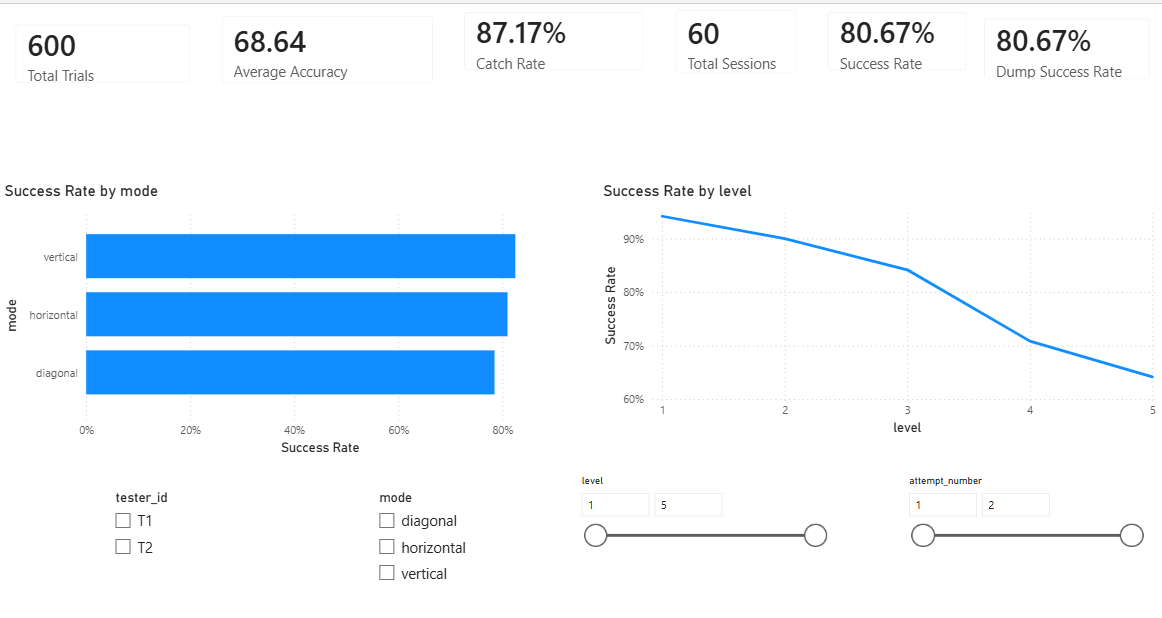

Layout of this report page (visuals, bound fields, positions):
{"tool":"powerbi","page":{"name":"Overall Performance","canvas":[1280,720],"ordinal":0},"visuals":[{"type":"cardVisual","fields":{"Data":["fixed_game_trial_results_cleaned.Total Trials"]},"box":[0,50.8,226.4,98.8],"z":0},{"type":"cardVisual","fields":{"Data":["fixed_game_trial_results_cleaned.Total Sessions"]},"box":[724.5,34.3,167.4,104.3],"z":1000},{"type":"cardVisual","fields":{"Data":["fixed_game_trial_results_cleaned.Success Rate"]},"box":[891.9,37,186.6,98.8],"z":2000},{"type":"cardVisual","fields":{"Data":["fixed_game_trial_results_cleaned.Average Accuracy"]},"box":[226.4,41.2,266.2,108.4],"z":3000},{"type":"cardVisual","fields":{"Data":["fixed_game_trial_results_cleaned.Catch Rate"]},"box":[492.6,37,231.9,98.8],"z":4000},{"type":"cardVisual","fields":{"Data":["fixed_game_trial_results_cleaned.Dump Success Rate"]},"box":[1063.5,43.9,216.8,101.5],"z":5000},{"type":"clusteredBarChart","fields":{"Category":["fixed_game_trial_results_cleaned.mode"],"Y":["fixed_game_trial_results_cleaned.Success Rate"]},"box":[0,240.1,625.7,304.6],"z":6000},{"type":"lineChart","fields":{"Category":["fixed_game_trial_results_cleaned.level"],"Y":["fixed_game_trial_results_cleaned.Success Rate"]},"box":[657.3,240.1,623,282.7],"z":7000},{"type":"slicer","fields":{"Values":["fixed_game_trial_results_cleaned.tester_id"]},"box":[113.9,573.6,149.6,133.1],"z":8000},{"type":"slicer","fields":{"Values":["fixed_game_trial_results_cleaned.mode"]},"box":[403.4,573.6,144.1,118],"z":9000},{"type":"slicer","fields":{"Values":["fixed_game_trial_results_cleaned.level"]},"box":[625.7,557.1,290.9,149.6],"z":10000},{"type":"slicer","fields":{"Values":["fixed_game_trial_results_cleaned.attempt_number"]},"box":[985.3,557.1,278.6,149.6],"z":11000}]}

Visuals, with their boxes on the page's 1280x720 design canvas (x1, y1, x2, y2). These are canvas units, not pixel positions in the 1162x618 screenshot, which may show the page scaled, cropped or inside an application window:
cardVisual - fixed_game_trial_results_cleaned.Total Trials: {"left": 0, "top": 51, "right": 226, "bottom": 150}
cardVisual - fixed_game_trial_results_cleaned.Total Sessions: {"left": 724, "top": 34, "right": 892, "bottom": 139}
cardVisual - fixed_game_trial_results_cleaned.Success Rate: {"left": 892, "top": 37, "right": 1078, "bottom": 136}
cardVisual - fixed_game_trial_results_cleaned.Average Accuracy: {"left": 226, "top": 41, "right": 493, "bottom": 150}
cardVisual - fixed_game_trial_results_cleaned.Catch Rate: {"left": 493, "top": 37, "right": 724, "bottom": 136}
cardVisual - fixed_game_trial_results_cleaned.Dump Success Rate: {"left": 1064, "top": 44, "right": 1280, "bottom": 145}
clusteredBarChart - fixed_game_trial_results_cleaned.mode x fixed_game_trial_results_cleaned.Success Rate: {"left": 0, "top": 240, "right": 626, "bottom": 545}
lineChart - fixed_game_trial_results_cleaned.level x fixed_game_trial_results_cleaned.Success Rate: {"left": 657, "top": 240, "right": 1280, "bottom": 523}
slicer - fixed_game_trial_results_cleaned.tester_id: {"left": 114, "top": 574, "right": 264, "bottom": 707}
slicer - fixed_game_trial_results_cleaned.mode: {"left": 403, "top": 574, "right": 548, "bottom": 692}
slicer - fixed_game_trial_results_cleaned.level: {"left": 626, "top": 557, "right": 917, "bottom": 707}
slicer - fixed_game_trial_results_cleaned.attempt_number: {"left": 985, "top": 557, "right": 1264, "bottom": 707}
